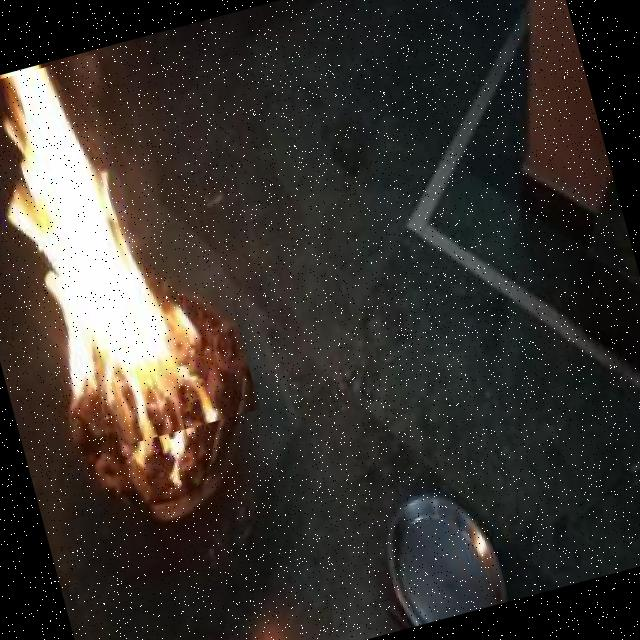fire: (0, 35, 260, 459)
